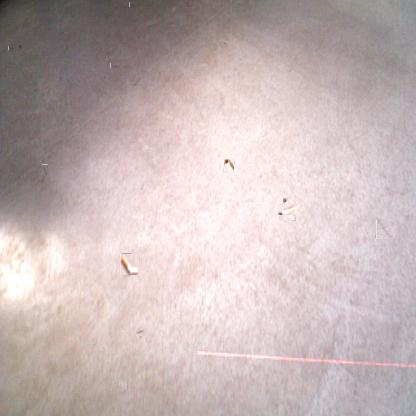dirty: (120, 253, 139, 275), (281, 201, 297, 217), (224, 158, 234, 172)
mark: (376, 220, 394, 239), (131, 74, 143, 86), (136, 329, 145, 337), (42, 164, 48, 175), (220, 40, 228, 48), (111, 62, 119, 69), (130, 1, 136, 8), (16, 43, 22, 50), (9, 46, 15, 51)
